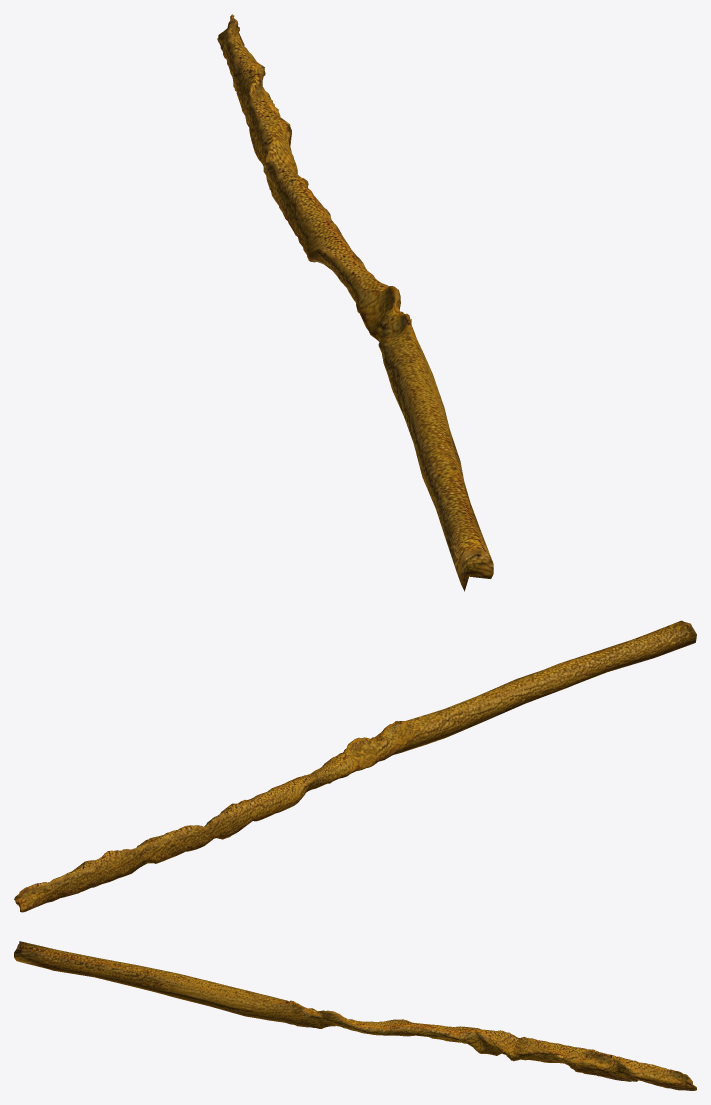
File: golden-wand.glb
3 views of the same model, one above another, from view 1: azimuth 30°, elevation 25°; view 2: azimuth 150°, elevation 25°; view 3: azimuth 270°, elevation 25° (orthographic). The views are drawn at different scales.
Parts seen in each view (by area): view 1: tripo_node_e7535518-0cea-4521-bfd1-518bb7cb4442; view 2: tripo_node_e7535518-0cea-4521-bfd1-518bb7cb4442; view 3: tripo_node_e7535518-0cea-4521-bfd1-518bb7cb4442.
Boxes of the visible parts, <box> form: tripo_node_e7535518-0cea-4521-bfd1-518bb7cb4442: <box>217,14,493,591</box>; tripo_node_e7535518-0cea-4521-bfd1-518bb7cb4442: <box>14,620,696,912</box>; tripo_node_e7535518-0cea-4521-bfd1-518bb7cb4442: <box>14,941,696,1090</box>.
Size of the model in its own units: 0.3848 by 0.0723 by 0.998.
1 material, 1 textured.
